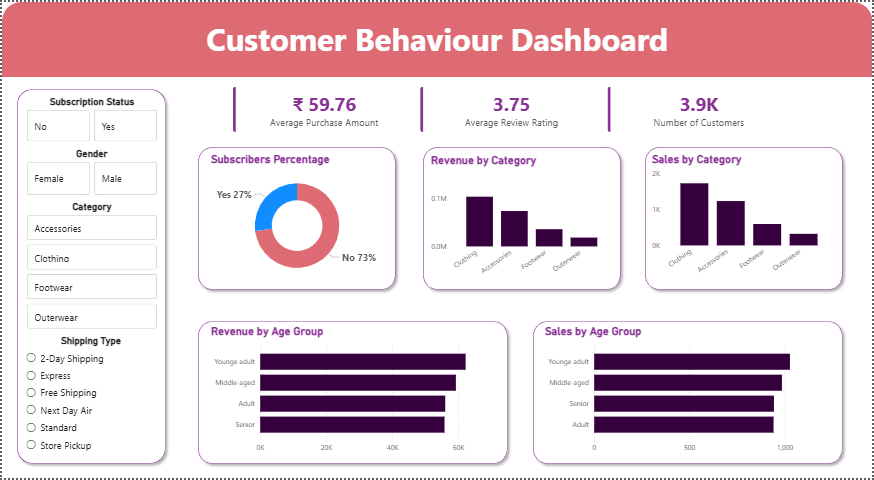

The dashboard page shown, as its layout file describes it:
{"tool":"powerbi","page":{"name":"Page 1","canvas":[1500,820],"ordinal":0},"visuals":[{"type":"shape","box":[716.5,242.1,358.3,263.8],"z":0},{"type":"shape","box":[1100.4,242.1,358.3,263.8],"z":1000},{"type":"cardVisual","fields":{"Data":["public customer.Average Purchase Amount","public customer.Average Review Rating","public customer.Number of Customers"]},"box":[381.9,129.9,996.1,112.2],"z":2000},{"type":"shape","box":[0,0,1500.6,129.6],"z":3000},{"type":"shape","box":[328.7,541.3,551.2,263.8],"z":5000},{"type":"shape","box":[328.7,242.1,358.3,263.8],"z":6000},{"type":"donutChart","title":"Subscribers Percentage","fields":{"Category":["public customer.subscription_status"],"Y":["CountNonNull(public customer.customer_id)"]},"box":[354.3,259.8,307.1,228.3],"z":7000},{"type":"clusteredColumnChart","title":"Revenue by Category","fields":{"Y":["Sum(public customer.purchase_amount)"],"Category":["public customer.category"]},"box":[734.3,261.8,322.8,228.3],"z":8000},{"type":"clusteredColumnChart","title":"Sales by Category","fields":{"Y":["CountNonNull(public customer.customer_id)"],"Category":["public customer.category"]},"box":[1116.1,259.8,322.8,228.3],"z":9000},{"type":"shape","box":[17.7,141.7,273.6,663.4],"z":10000},{"type":"advancedSlicerVisual","title":"Subscription Status","fields":{"Values":["public customer.subscription_status"]},"box":[37.7,162.4,234.5,83.6],"z":11000},{"type":"advancedSlicerVisual","title":"Gender","fields":{"Values":["public customer.gender"]},"box":[37.7,252.6,234.5,86.9],"z":12000},{"type":"advancedSlicerVisual","title":"Category","fields":{"Values":["public customer.category"]},"box":[37.7,342.8,234.5,228],"z":13000},{"type":"barChart","title":"Revenue by Age Group","fields":{"Y":["Sum(public customer.purchase_amount)"],"Category":["public customer.age_group"]},"box":[354.3,557.1,503.9,230.3],"z":14000},{"type":"shape","box":[907.5,541.3,551.2,263.8],"z":15000},{"type":"barChart","title":"Sales by Age Group","fields":{"Y":["CountNonNull(public customer.customer_id)"],"Category":["public customer.age_group"]},"box":[931.1,557.1,503.9,230.3],"z":16000},{"type":"listSlicer","title":"Shipping Type","fields":{"Values":["public customer.shipping_type"]},"box":[36.1,574,234.5,213.2],"z":16001}]}

Visuals, with their boxes in screenshot pixels (x1, y1, x2, y2), scaled from the page's 1500x820 canvas onto the 874x480 screenshot:
shape: [x1=417, y1=142, x2=626, y2=296]
shape: [x1=641, y1=142, x2=850, y2=296]
cardVisual - public customer.Average Purchase Amount x public customer.Average Review Rating: [x1=223, y1=76, x2=803, y2=142]
shape: [x1=0, y1=0, x2=873, y2=76]
shape: [x1=192, y1=317, x2=513, y2=471]
shape: [x1=192, y1=142, x2=400, y2=296]
"Subscribers Percentage" donutChart: [x1=206, y1=152, x2=385, y2=286]
"Revenue by Category" clusteredColumnChart: [x1=428, y1=153, x2=616, y2=287]
"Sales by Category" clusteredColumnChart: [x1=650, y1=152, x2=838, y2=286]
shape: [x1=10, y1=83, x2=170, y2=471]
"Subscription Status" advancedSlicerVisual: [x1=22, y1=95, x2=159, y2=144]
"Gender" advancedSlicerVisual: [x1=22, y1=148, x2=159, y2=199]
"Category" advancedSlicerVisual: [x1=22, y1=201, x2=159, y2=334]
"Revenue by Age Group" barChart: [x1=206, y1=326, x2=500, y2=461]
shape: [x1=529, y1=317, x2=850, y2=471]
"Sales by Age Group" barChart: [x1=543, y1=326, x2=836, y2=461]
"Shipping Type" listSlicer: [x1=21, y1=336, x2=158, y2=461]
